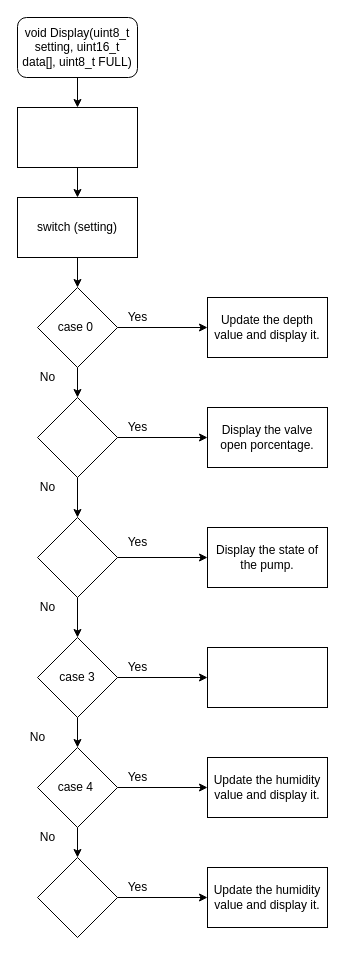
Some shapes in this 345 by 955 pixel diagram are drawn without their labels. The shapes that lost their labels are listed below. From the top down, each one's centre as x and y in pixels, then its label:
At (77,137): "Define lcd_string[] and go to 0,1".
At (77,437): "case 1".
At (77,557): "case 2".
At (267,677): "Update the preassure value and display it.".
At (77,897): "case 5".
